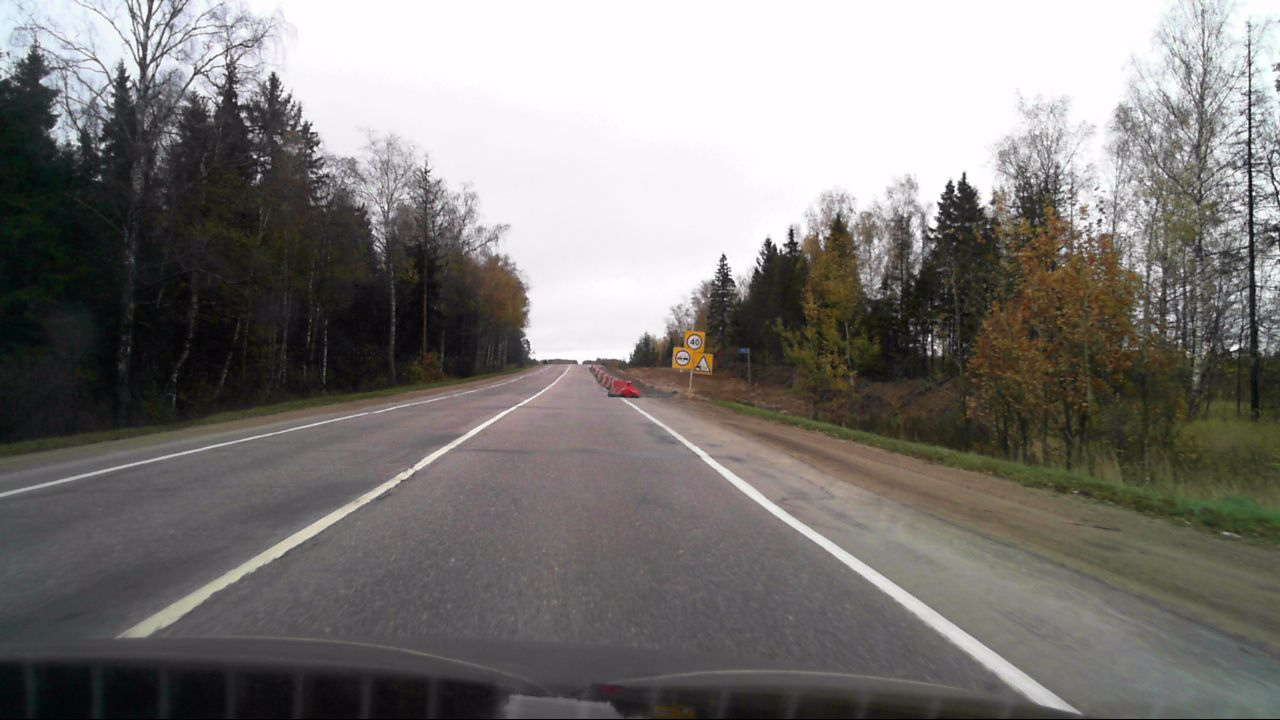speed_warning_40: (684, 330, 705, 352)
